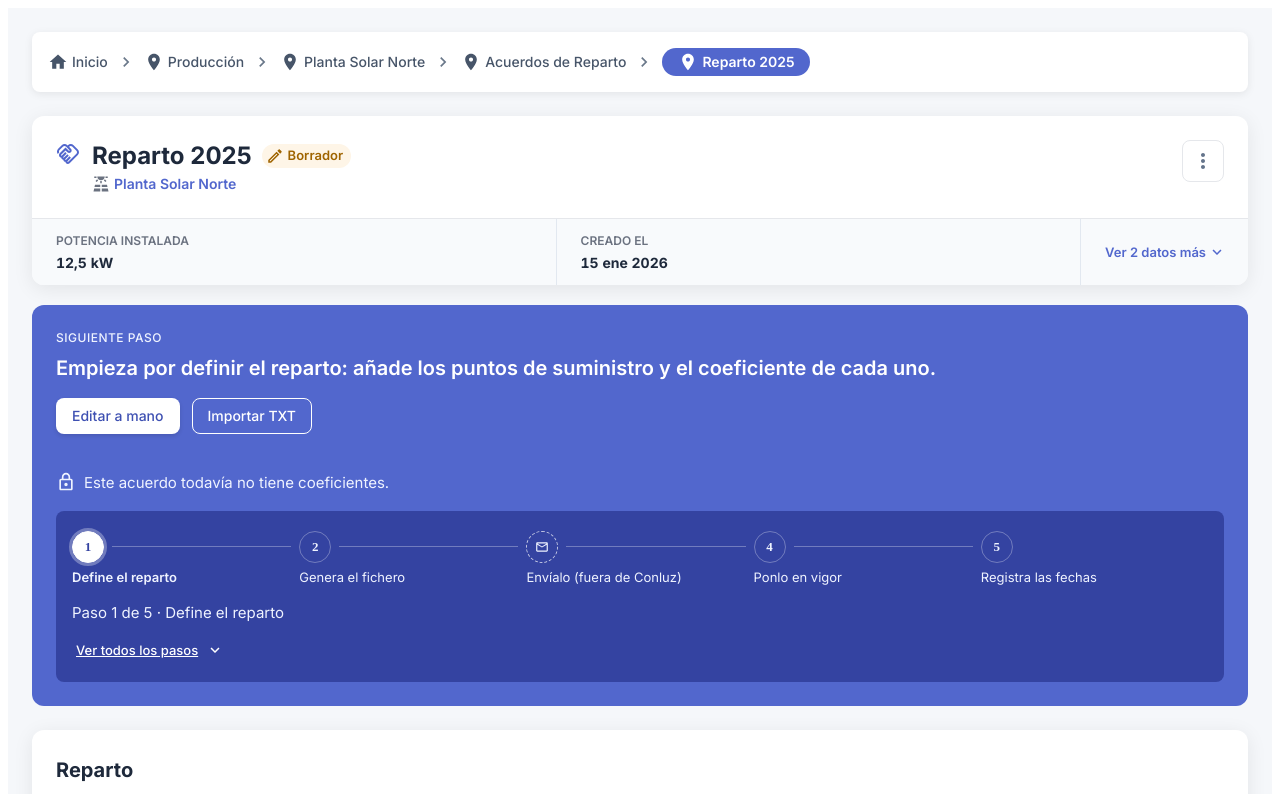
SharingAgreementDetailPage › a successful edit refreshes the header without a full reload
Expected: the heading "Reparto 2025" is shown, 92,140 -> 252,172
Click the button named "Más opciones del acuerdo": (1203, 161) 1182,140 -> 1224,182
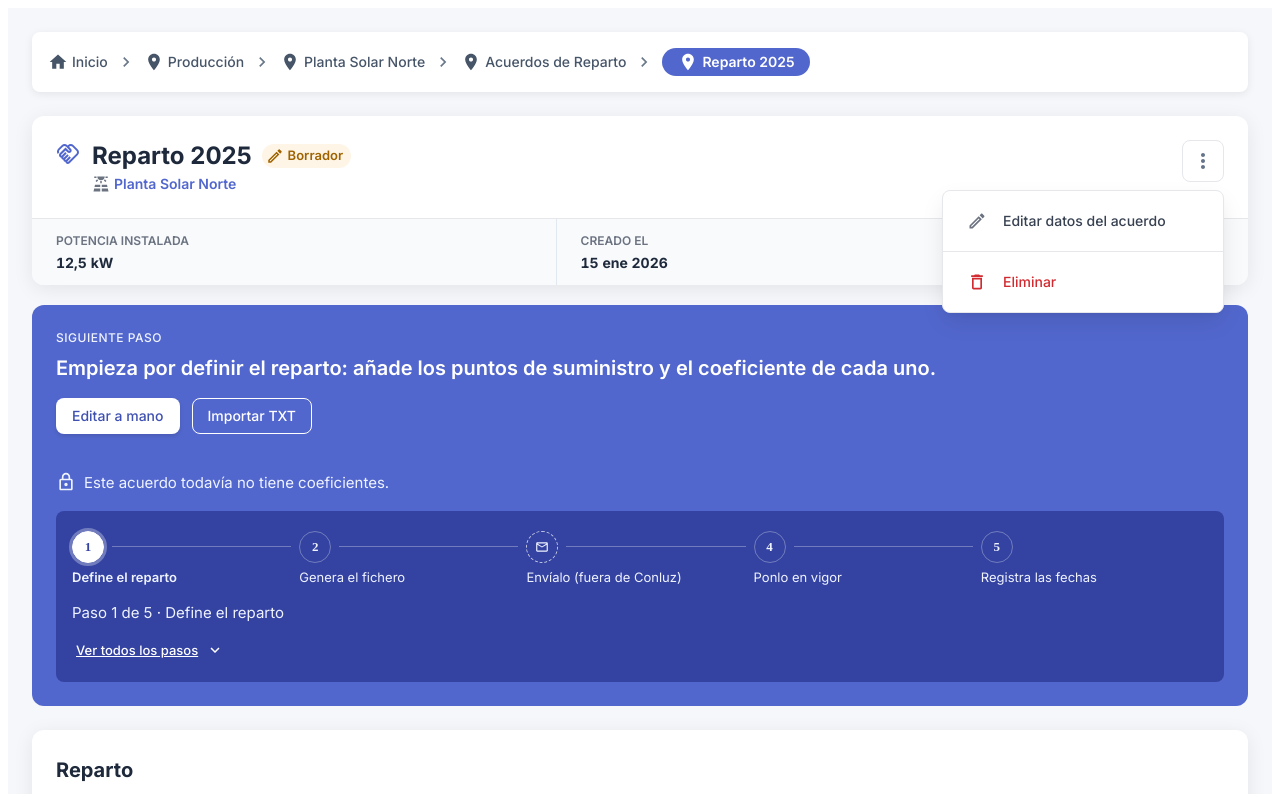
Click the menu item "Editar datos del acuerdo": (1066, 221) 967,211 -> 1166,231
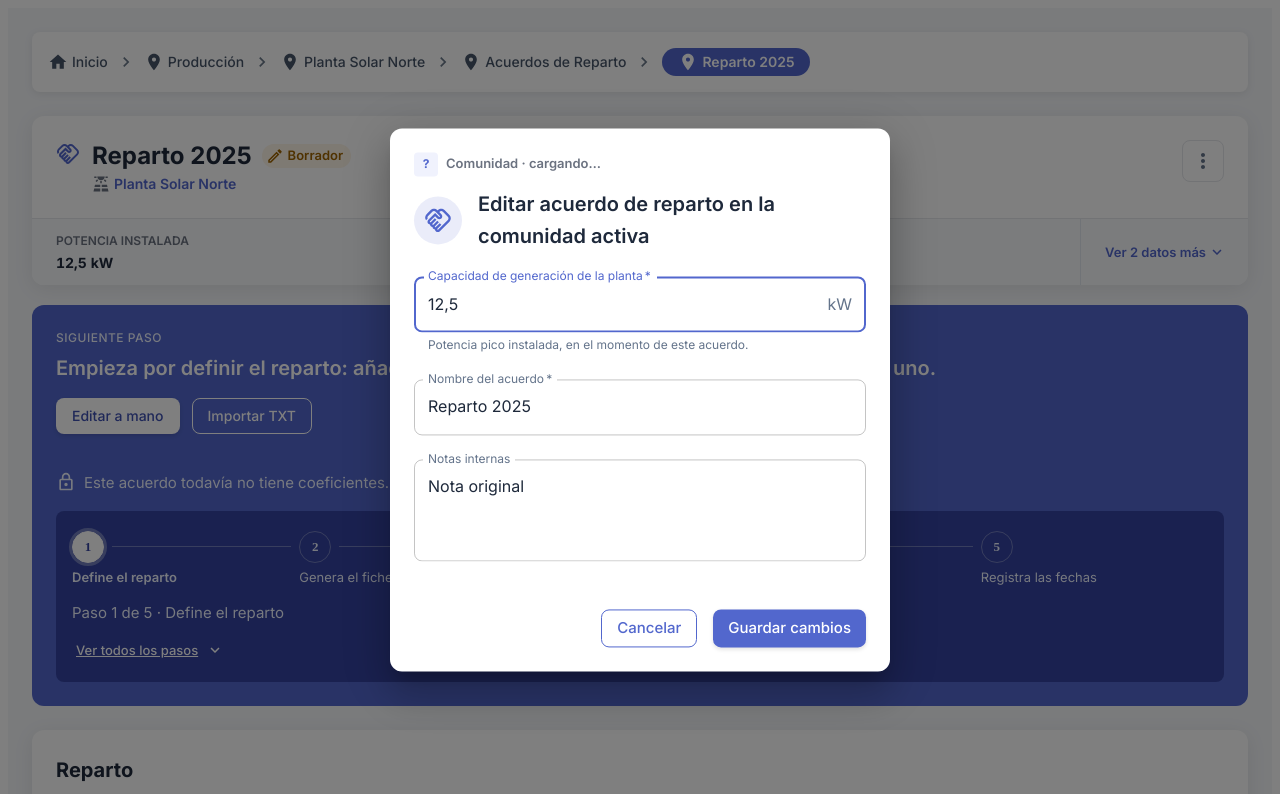
Click the button "Guardar cambios": (790, 628) 713,609 -> 866,648
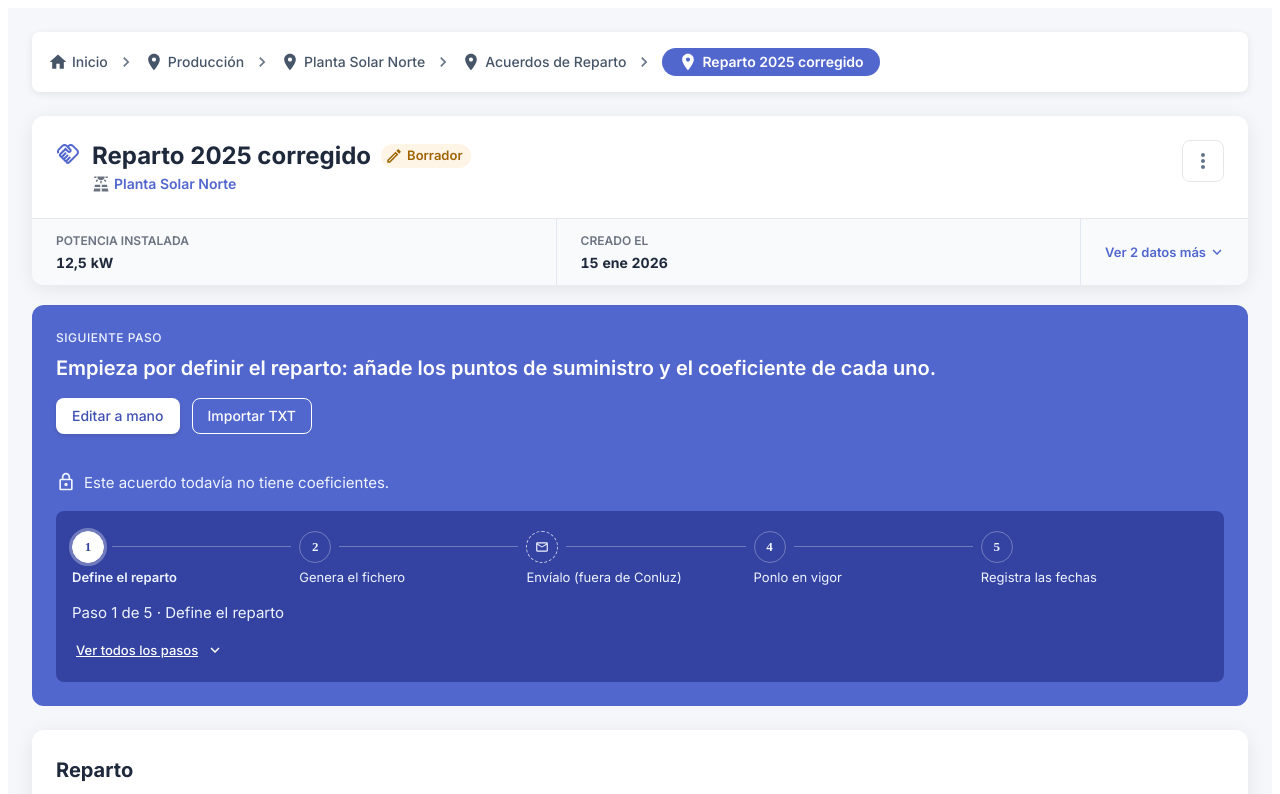
Expected: the heading "Reparto 2025 corregido" is shown, 92,140 -> 371,172
